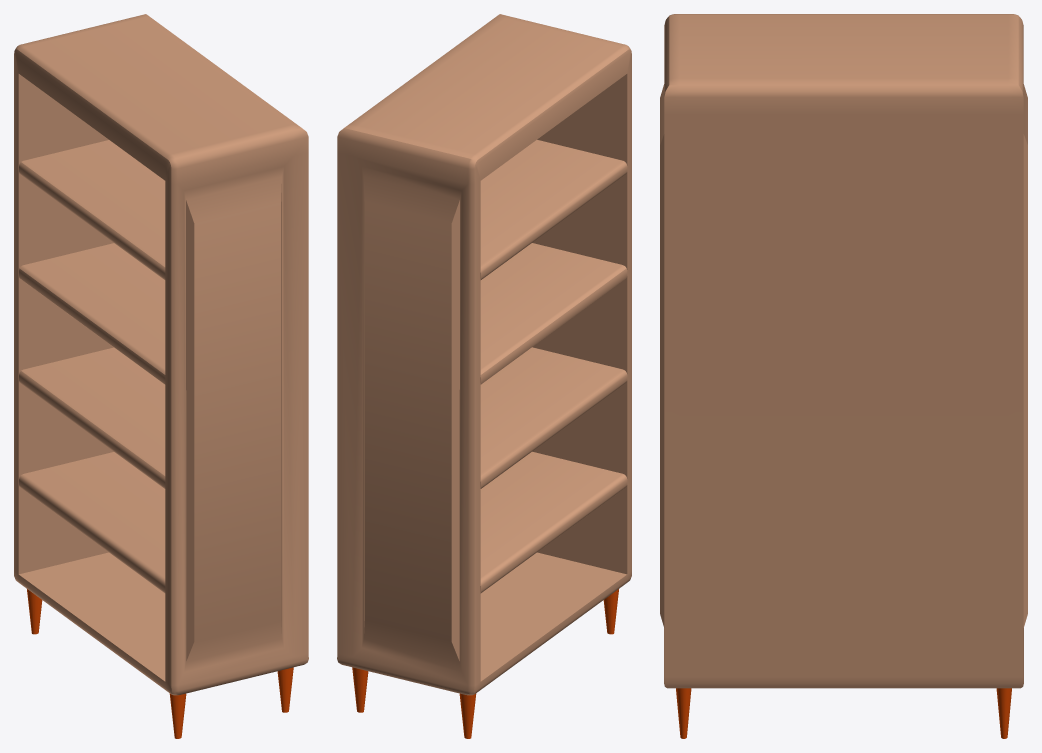
The model's file is Large_shelf_v1.fbx.
3 renders of one model, left to right at view 1: azimuth 30°, elevation 25°; view 2: azimuth 150°, elevation 25°; view 3: azimuth 270°, elevation 25°, orthographic. The views are drawn at different scales.
Visible parts, largest first — view 1: Large_shelf; view 2: Large_shelf; view 3: Large_shelf.
Boxes of the visible parts, x1,y1,x2,y2 form: Large_shelf: (14, 14, 308, 738); Large_shelf: (337, 14, 631, 738); Large_shelf: (660, 14, 1027, 738).
Size of the model in its own units: 72.03 by 295 by 150.
